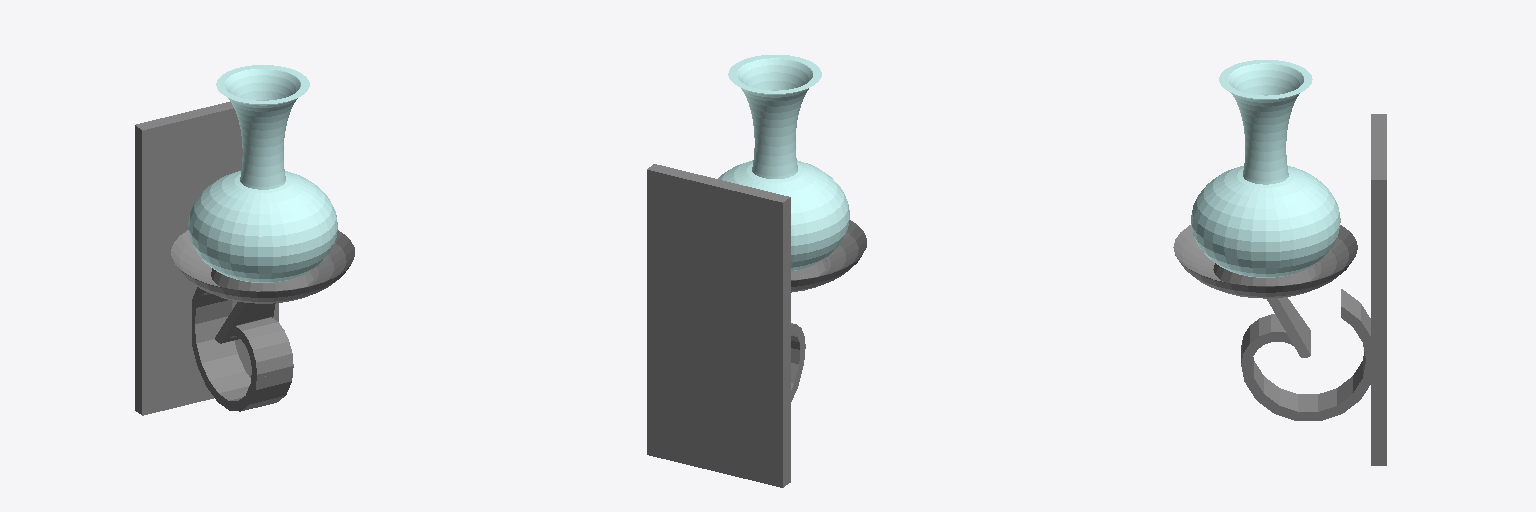
3 renders of one model, left to right at view 1: azimuth 30°, elevation 25°; view 2: azimuth 150°, elevation 25°; view 3: azimuth 270°, elevation 25°, orthographic.
Visible parts, largest first — view 1: Box001, Sphere005, Tube001, Sphere001, Tube003, Cone001, Box002; view 2: Box001, Sphere005, Sphere001; view 3: Sphere005, Box001, Tube001, Sphere001, Tube003, Box002, Cone001.
Part boxes in pixels (bbox=[...]): Box001: bbox=[135, 101, 278, 415]; Sphere005: bbox=[188, 65, 337, 282]; Tube001: bbox=[192, 287, 292, 411]; Sphere001: bbox=[171, 230, 354, 303]; Tube003: bbox=[229, 317, 293, 392]; Cone001: bbox=[211, 268, 315, 291]; Box002: bbox=[215, 302, 275, 343]; Box001: bbox=[647, 164, 790, 487]; Sphere005: bbox=[718, 55, 849, 270]; Sphere001: bbox=[791, 220, 866, 292]; Sphere005: bbox=[1191, 60, 1340, 277]; Box001: bbox=[1371, 114, 1386, 465]; Tube001: bbox=[1243, 289, 1370, 420]; Sphere001: bbox=[1173, 225, 1357, 298]; Tube003: bbox=[1241, 314, 1293, 385]; Box002: bbox=[1267, 297, 1310, 357]; Cone001: bbox=[1213, 263, 1317, 285].
Bounding box in the file's own units: 17.59 × 37.11 × 20.3.
4 materials, 2 textured.